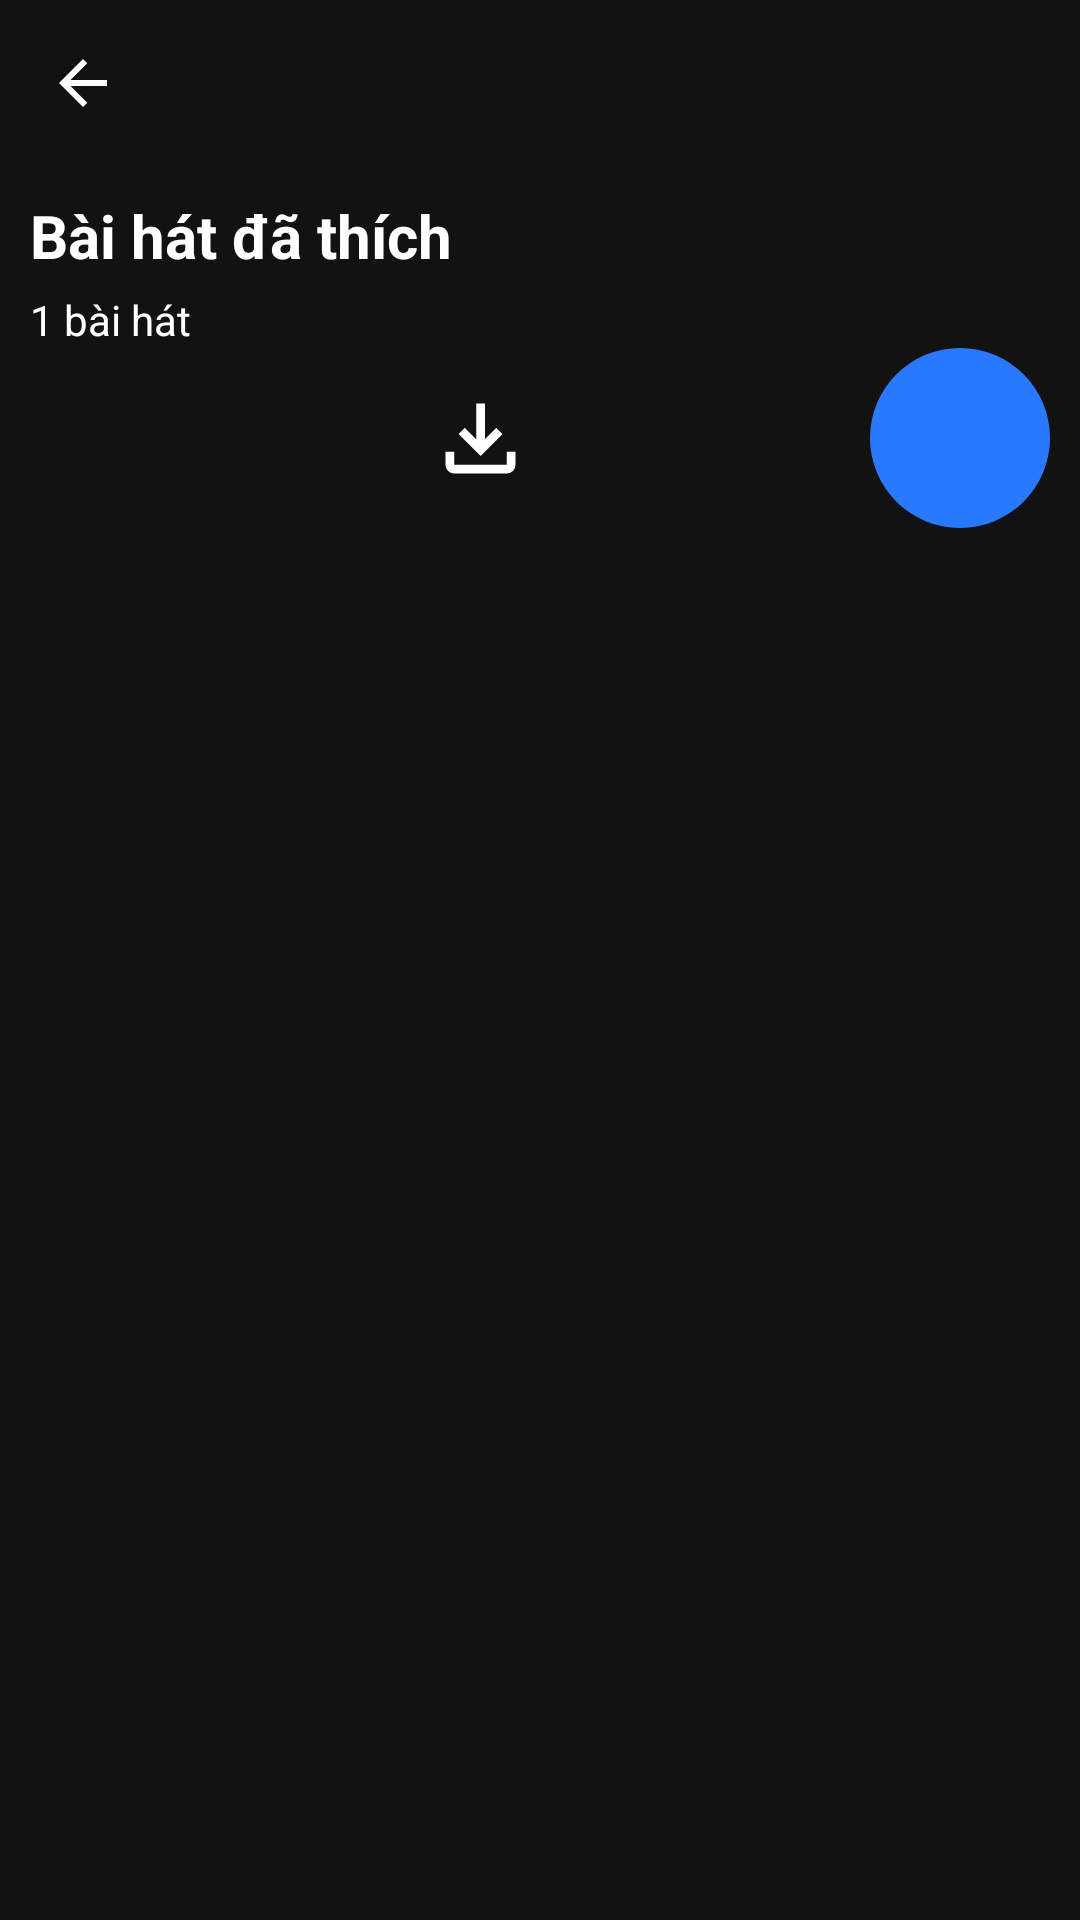

Icon click points for this 1080px x 1920px phone screenshot, format point (x, y):
arrow back: point (83, 83)
download: point (480, 438)
